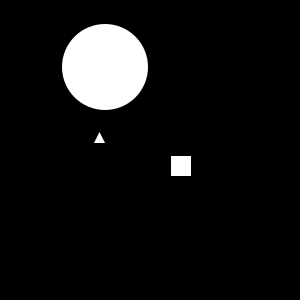circle: (171, 156, 191, 176)
rectangle: (62, 24, 148, 110)
triangle: (94, 132, 105, 143)
